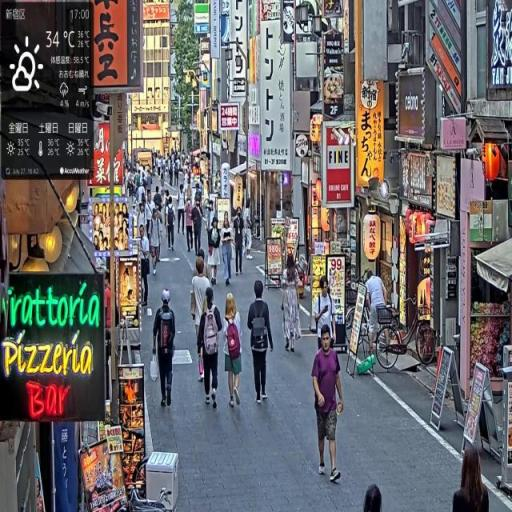person: (311, 324, 346, 485), (248, 276, 277, 407), (152, 289, 178, 410), (199, 288, 224, 410), (191, 256, 213, 384), (222, 293, 245, 411), (450, 446, 490, 512), (314, 276, 337, 350), (221, 211, 236, 289), (140, 225, 153, 310), (233, 205, 246, 276), (151, 209, 165, 272), (192, 197, 204, 256), (185, 199, 196, 255), (167, 197, 177, 251)
